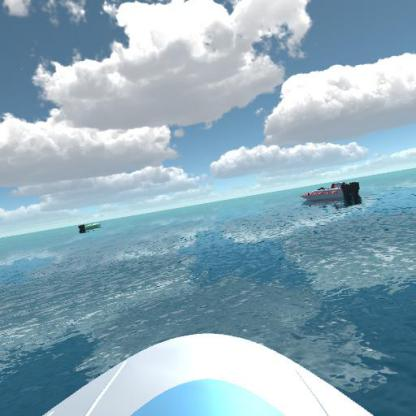usv0: (73, 217, 107, 232)
usv3: (297, 180, 368, 206)
